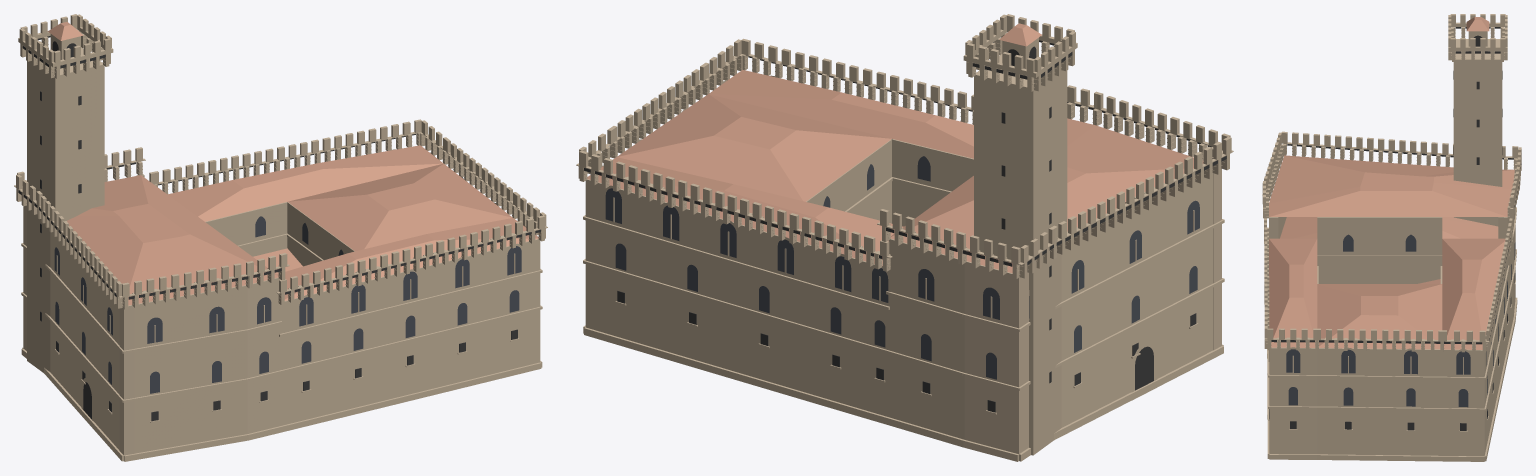
The model's file is bargello.glb.
3 views of the same model, side by side, from view 1: azimuth 30°, elevation 25°; view 2: azimuth 150°, elevation 25°; view 3: azimuth 270°, elevation 25° (orthographic). The views are drawn at different scales.
Visible parts, largest first — view 1: front_low@1255-99999.stone, south_low@1316-99999.stone, torre_volognana@1255-99999.stone, front_raise@1340-99999.stone, south_raise@1340-99999.stone, front_raise@1340-99999.roof, east_raise@1340-99999.roof, north_raise@1340-99999.roof, north_raise@1340-99999.stone, torre_boscoli@1180-1255.stone, south_raise@1340-99999.roof, east_raise@1340-99999.stone (+6 smaller); view 2: front_low@1255-99999.stone, north_low@1316-99999.stone, front_raise@1340-99999.stone, torre_volognana@1255-99999.stone, north_raise@1340-99999.stone, east_raise@1340-99999.roof, south_raise@1340-99999.stone, front_raise@1340-99999.roof, south_raise@1340-99999.roof, torre_boscoli@1180-1255.stone, east_raise@1340-99999.stone, north_raise@1340-99999.roof (+10 smaller); view 3: front_raise@1340-99999.roof, east_low@1316-99999.stone, front_raise@1340-99999.stone, torre_volognana@1255-99999.stone, east_raise@1340-99999.roof, north_raise@1340-99999.roof, north_low@1316-99999.stone, south_raise@1340-99999.roof, east_raise@1340-99999.stone, south_low@1316-99999.stone, front_low@1255-99999.stone, north_raise@1340-99999.stone (+11 smaller).
Boxes of the visible parts, x1,y1,x2,y2 form: front_low@1255-99999.stone: [21, 248, 282, 461]; south_low@1316-99999.stone: [280, 273, 542, 432]; torre_volognana@1255-99999.stone: [18, 14, 113, 372]; front_raise@1340-99999.stone: [14, 147, 289, 353]; south_raise@1340-99999.stone: [276, 193, 547, 337]; front_raise@1340-99999.roof: [67, 175, 278, 305]; east_raise@1340-99999.roof: [288, 163, 512, 251]; north_raise@1340-99999.roof: [168, 145, 443, 221]; north_raise@1340-99999.stone: [136, 119, 448, 248]; torre_boscoli@1180-1255.stone: [27, 172, 104, 372]; south_raise@1340-99999.roof: [277, 218, 538, 300]; east_raise@1340-99999.stone: [286, 138, 520, 261]; front_low@1255-99999.stone: [887, 224, 1224, 461]; north_low@1316-99999.stone: [583, 221, 889, 424]; front_raise@1340-99999.stone: [877, 85, 1233, 332]; torre_volognana@1255-99999.stone: [963, 14, 1077, 453]; north_raise@1340-99999.stone: [576, 127, 892, 310]; east_raise@1340-99999.roof: [617, 94, 891, 201]; south_raise@1340-99999.stone: [700, 38, 973, 194]; front_raise@1340-99999.roof: [890, 118, 1203, 273]; south_raise@1340-99999.roof: [709, 70, 973, 158]; torre_boscoli@1180-1255.stone: [974, 204, 1067, 455]; east_raise@1340-99999.stone: [610, 64, 892, 212]; north_raise@1340-99999.roof: [587, 157, 903, 265]; front_raise@1340-99999.roof: [1269, 155, 1514, 216]; east_low@1316-99999.stone: [1316, 378, 1443, 461]; front_raise@1340-99999.stone: [1262, 131, 1521, 257]; torre_volognana@1255-99999.stone: [1448, 14, 1507, 225]; east_raise@1340-99999.roof: [1317, 284, 1442, 349]; north_raise@1340-99999.roof: [1442, 238, 1505, 349]; north_low@1316-99999.stone: [1441, 277, 1509, 461]; south_raise@1340-99999.roof: [1269, 238, 1317, 347]; east_raise@1340-99999.stone: [1312, 328, 1446, 379]; south_low@1316-99999.stone: [1267, 349, 1317, 459]; front_low@1255-99999.stone: [1317, 227, 1517, 348]; north_raise@1340-99999.stone: [1437, 218, 1512, 380].
Size of the model in its own units: 70.72 by 54.38 by 43.57.
